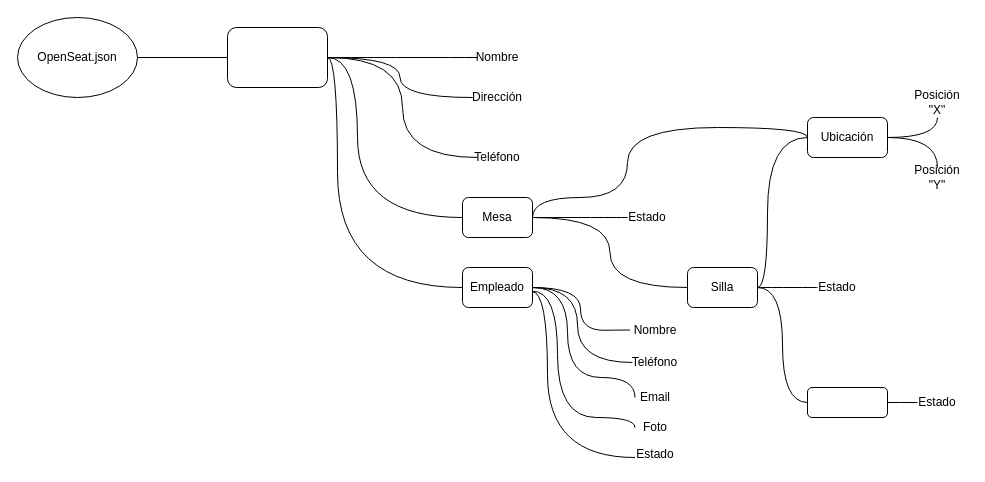
The diagram is 985 pixels wide and 482 high, and some of its shapes have lost their labels. Here are the shapes that lost their labels. From the top down, the centre of each, then its label:
At (x=277, y=57): "Restaurant".
At (x=847, y=402): "Sensor".
